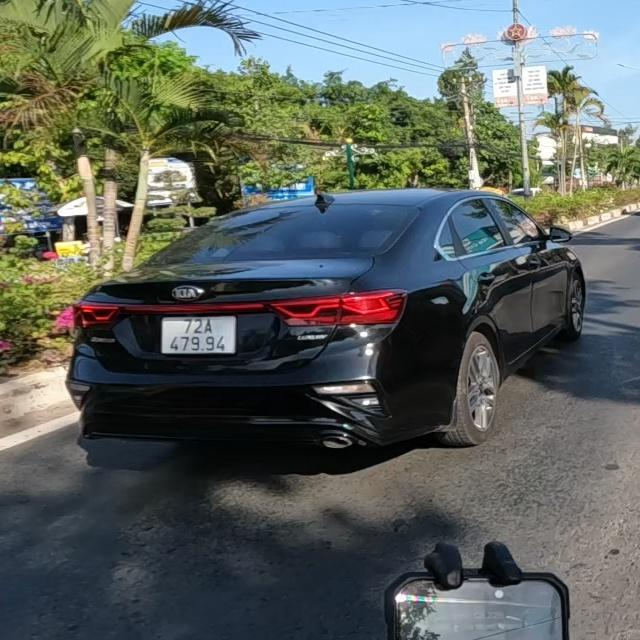car: (66, 185, 596, 472)
plate: (154, 314, 241, 361)
